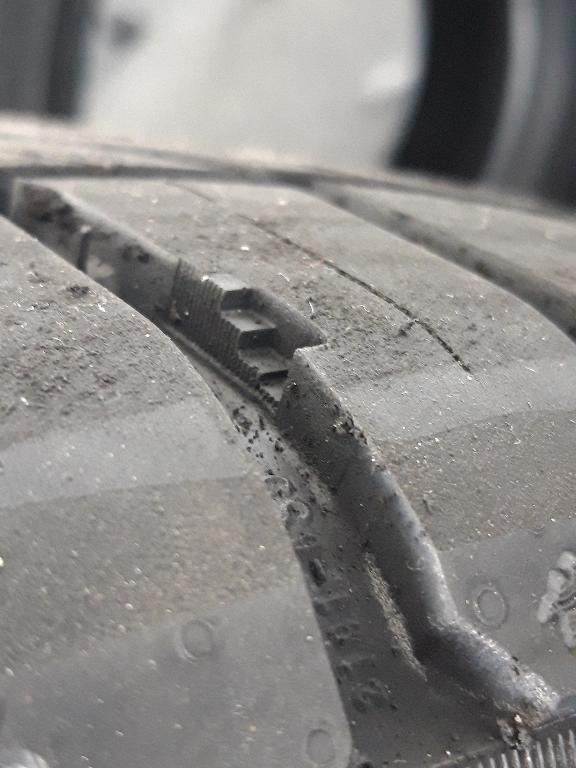temoin:75: (186, 267, 337, 419)
